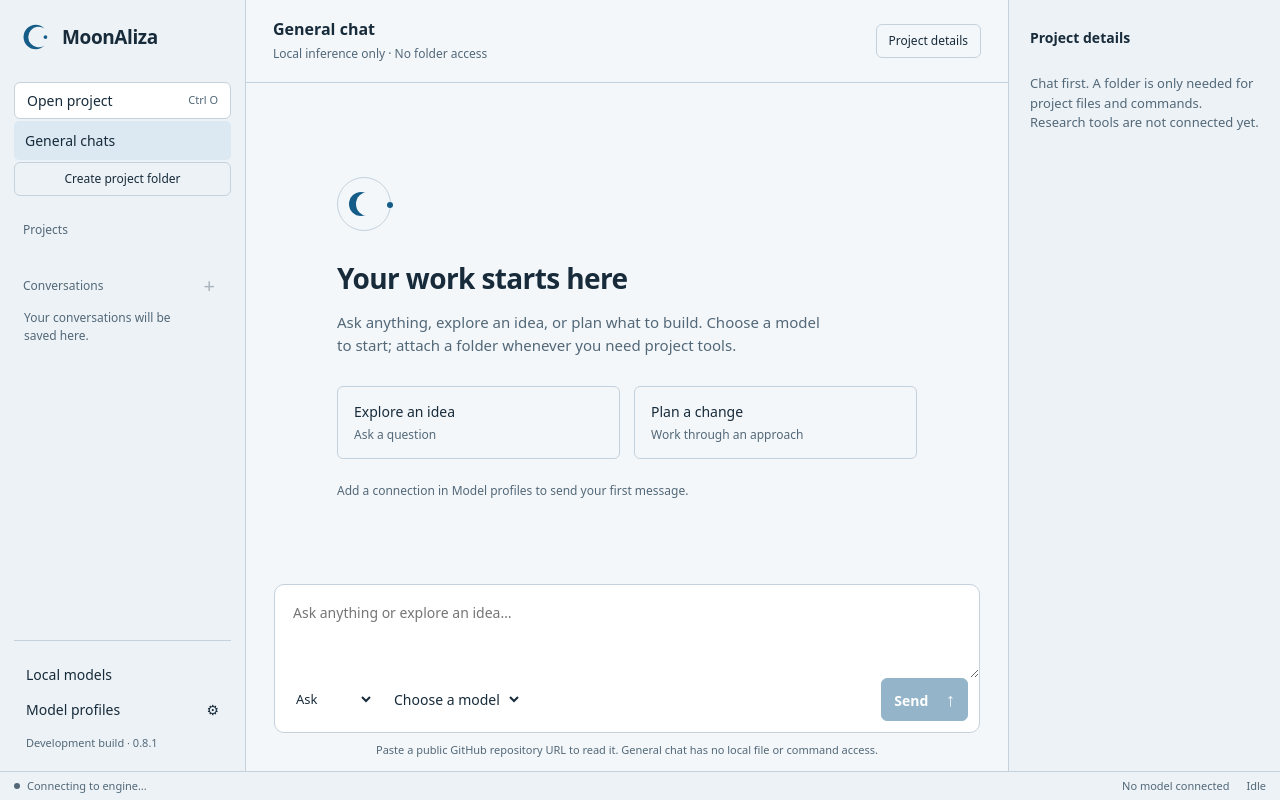
Test case: profile setup keeps failed submissions and explains the failure
Click the button "Model profiles ⚙": (122, 709) [14,692,231,726]
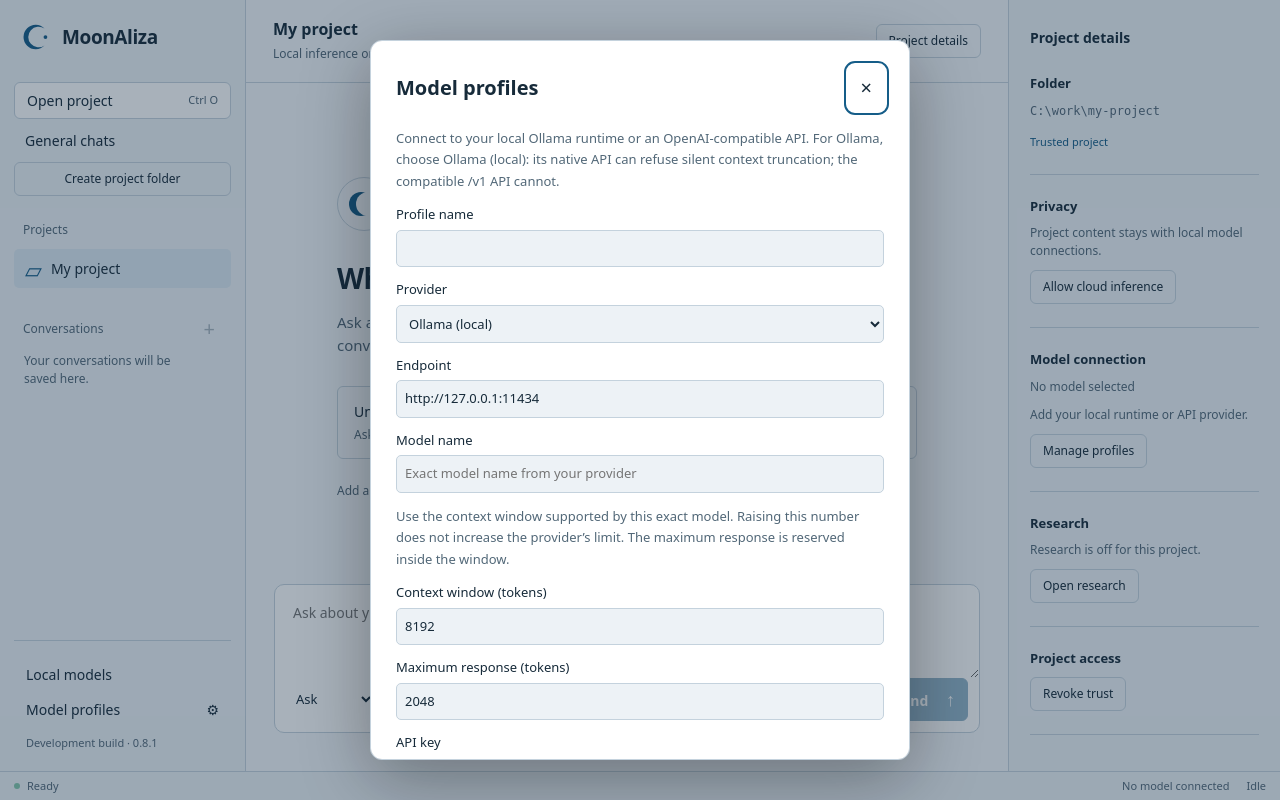
In the field labelled "Profile name": (640, 249) [396,230,884,267], type "My local model"
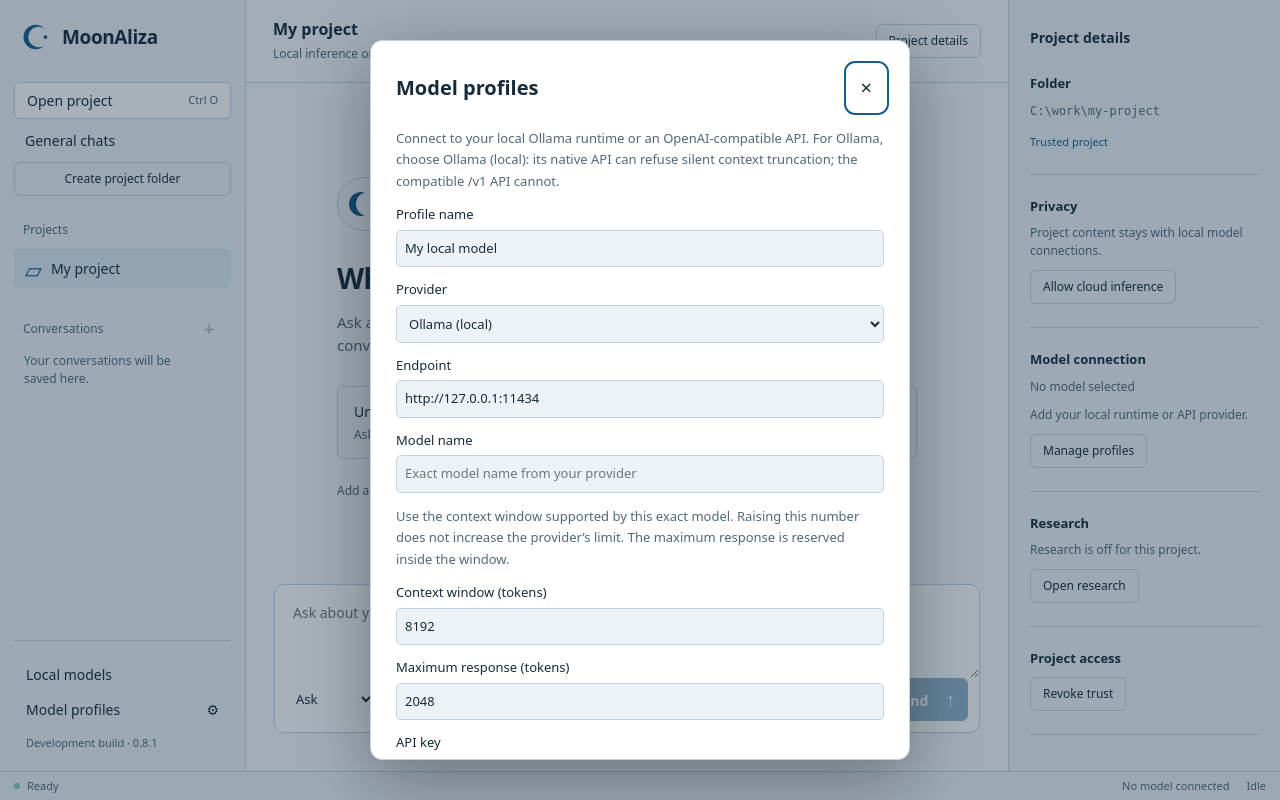
In the field labelled "Model name": (640, 474) [396,455,884,493], type "test-model"
(page scrolled)
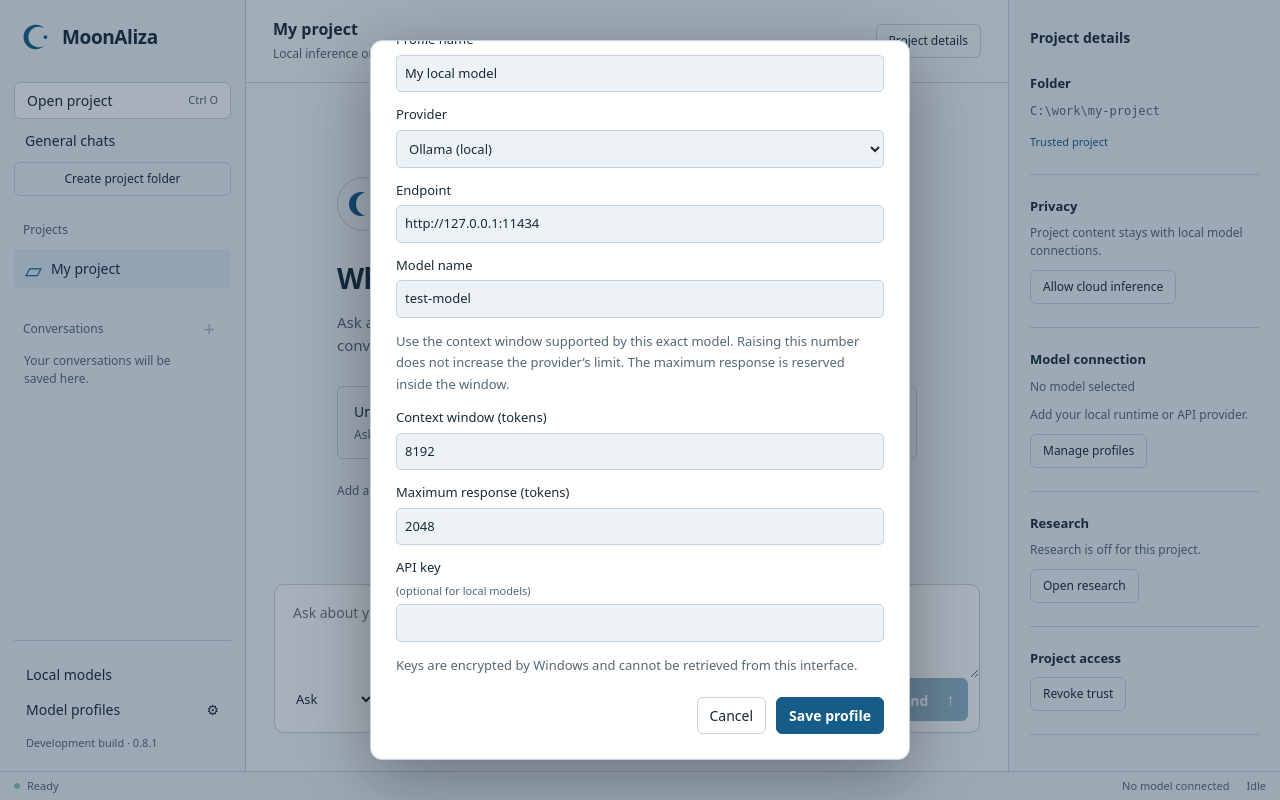
Click the button "Save profile": (830, 716) [776,697,884,734]
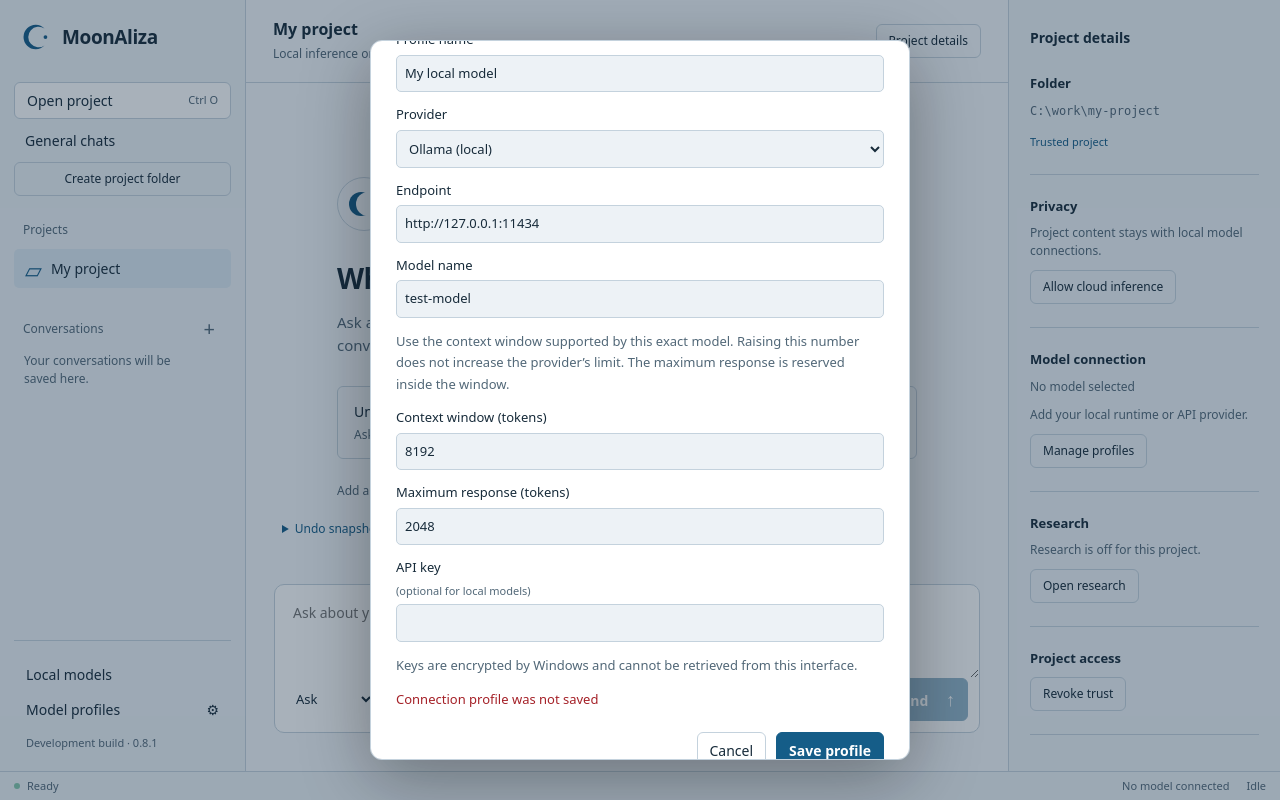
Now the text "Connection profile was not saved" is shown, box [396,690,598,708]
